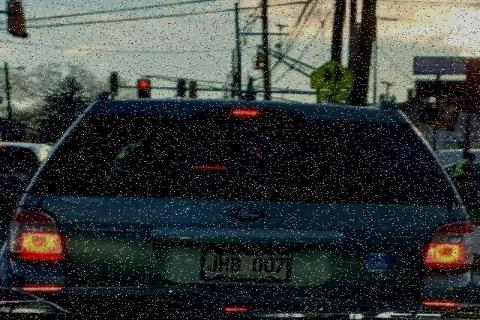LicensePlate: (198, 246, 291, 282)
